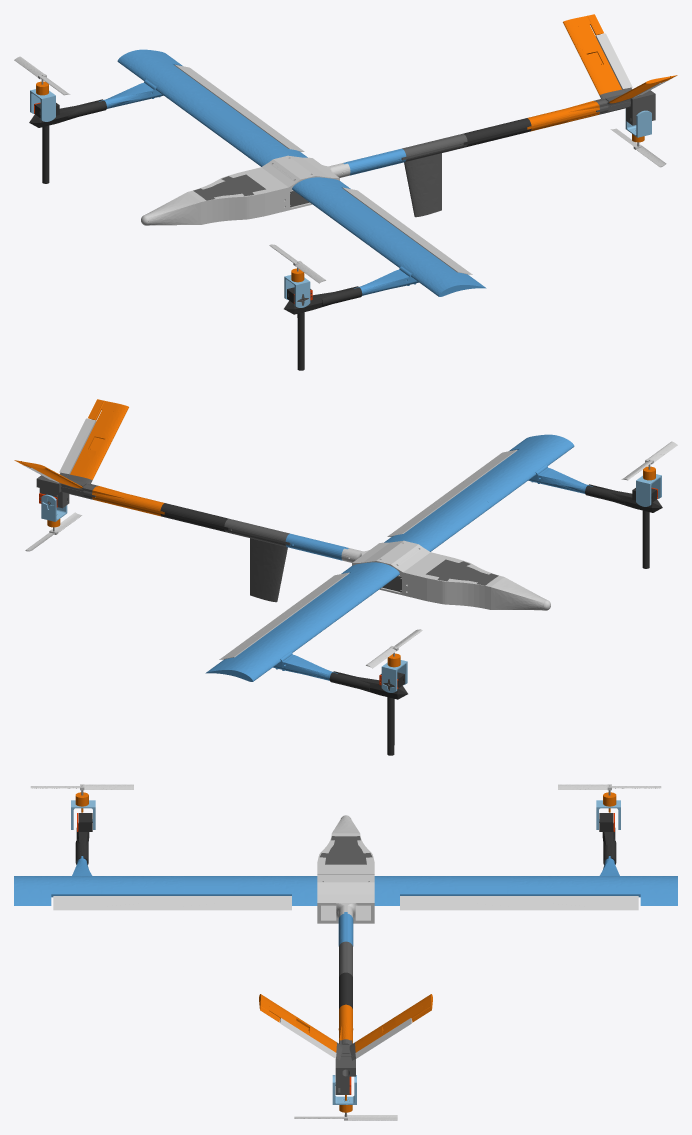
File: rampat.glb
3 views of the same model, one above another, from view 1: azimuth 30°, elevation 25°; view 2: azimuth 150°, elevation 25°; view 3: azimuth 270°, elevation 25° (orthographic). The views are drawn at different scales.
Visible parts, largest first — view 1: c4, c1, c3, c2, c9, c8; view 2: c4, c1, c3, c2, c9, c8; view 3: c4, c1, c2, c3, c9, c8.
Boxes of the visible parts, bbox=[...] form: c4: bbox=[99, 49, 486, 296]; c1: bbox=[14, 33, 668, 283]; c3: bbox=[193, 87, 655, 217]; c2: bbox=[36, 14, 677, 282]; c9: bbox=[29, 99, 531, 370]; c8: bbox=[30, 89, 651, 307]; c4: bbox=[205, 434, 592, 681]; c1: bbox=[23, 418, 677, 668]; c3: bbox=[36, 472, 498, 602]; c2: bbox=[14, 399, 655, 667]; c9: bbox=[160, 484, 662, 755]; c8: bbox=[41, 474, 661, 692]; c4: bbox=[14, 856, 677, 946]; c1: bbox=[30, 784, 661, 1120]; c2: bbox=[75, 792, 616, 1112]; c3: bbox=[320, 836, 372, 1094]; c9: bbox=[75, 813, 616, 1008]; c8: bbox=[71, 800, 620, 1104].
Size of the model in its own units: 1593 by 357 by 1742.
